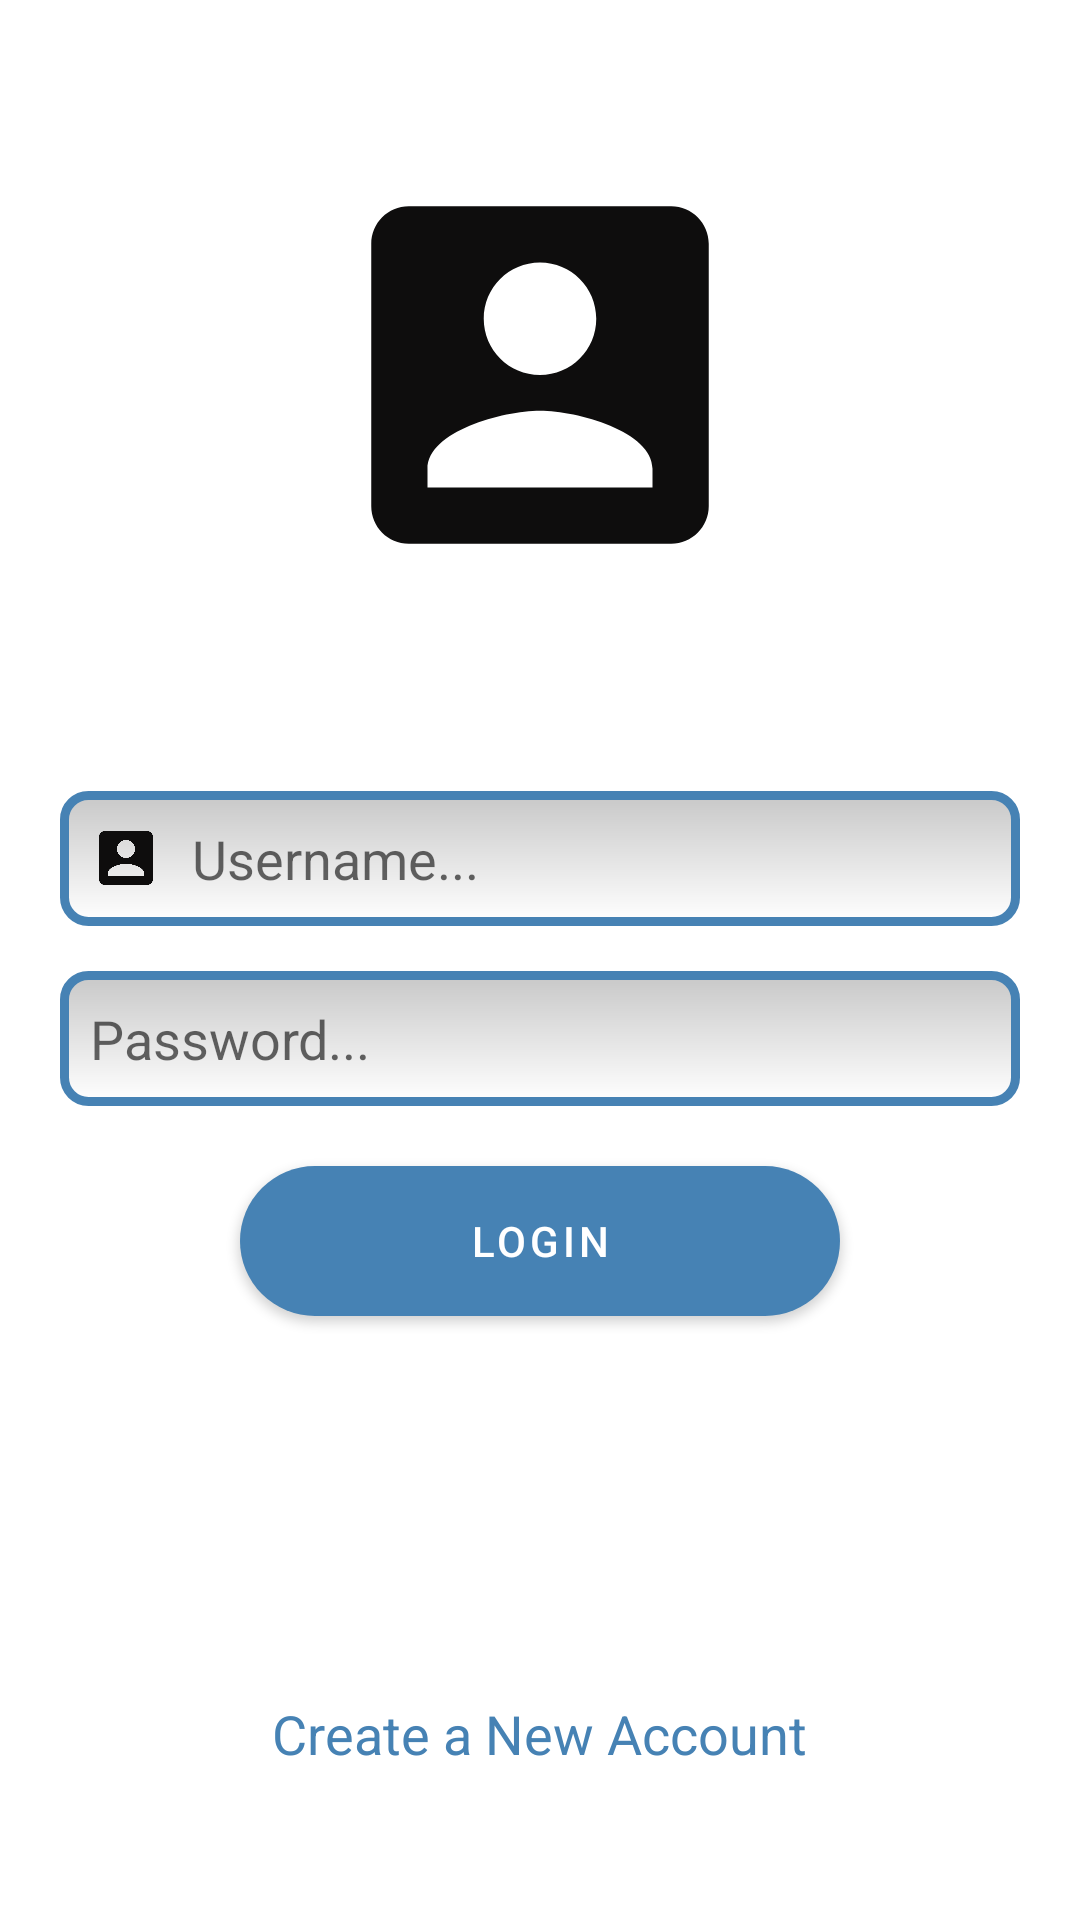

Named icons in this screenshot (1080px x 1920px) and their bounding boxes, (x1, y1, x2, y2):
account: (371, 206, 709, 544)
